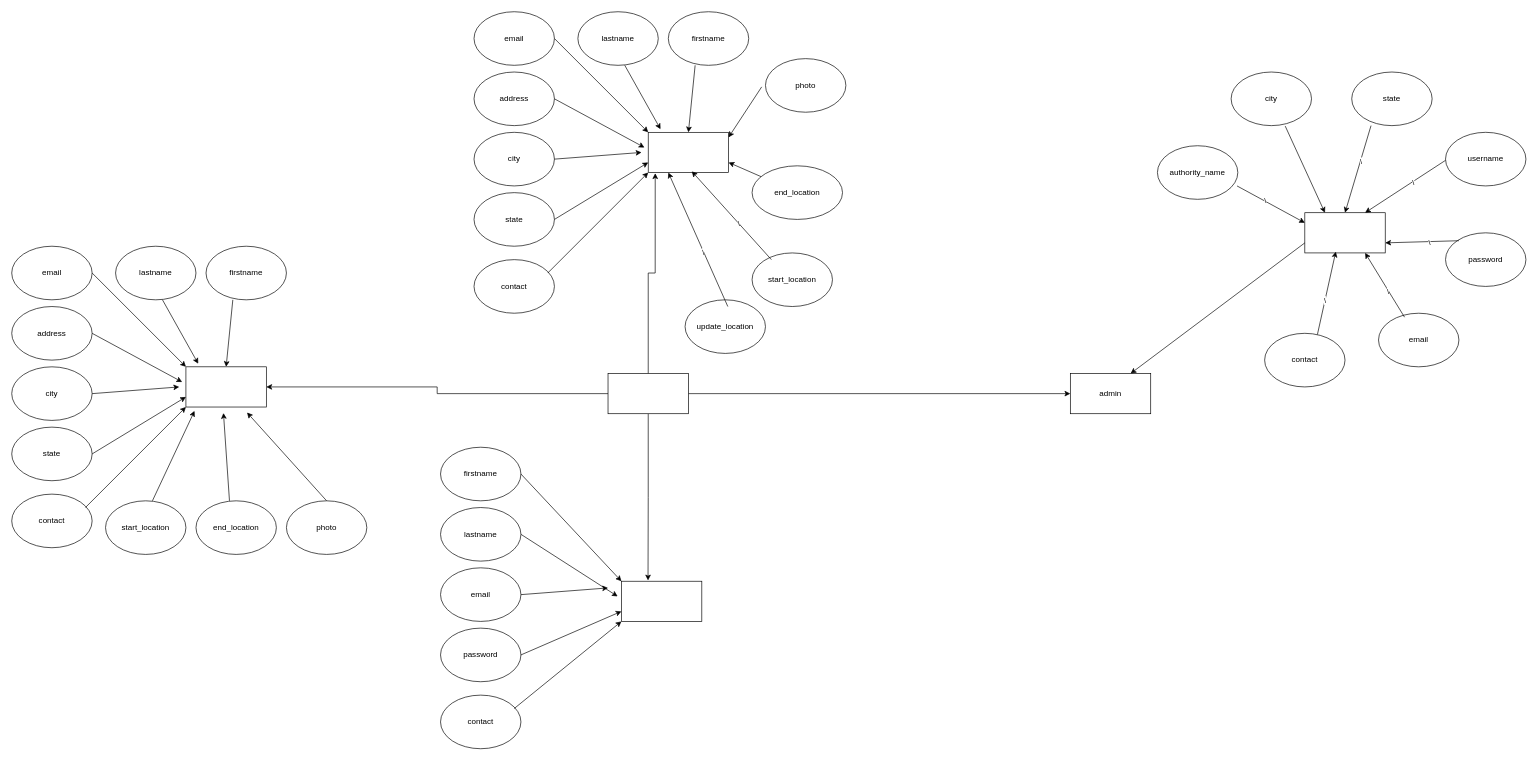
Some shapes in this 1538 by 760 pixel diagram are drawn without their labels. Here are the shapes that lost their labels. From the top down, the box of each, then its label:
(648, 132, 729, 173): updatepass
(1304, 212, 1385, 253): create_authority
(185, 366, 266, 407): applynewpass
(607, 373, 688, 414): user
(621, 581, 702, 621): login
